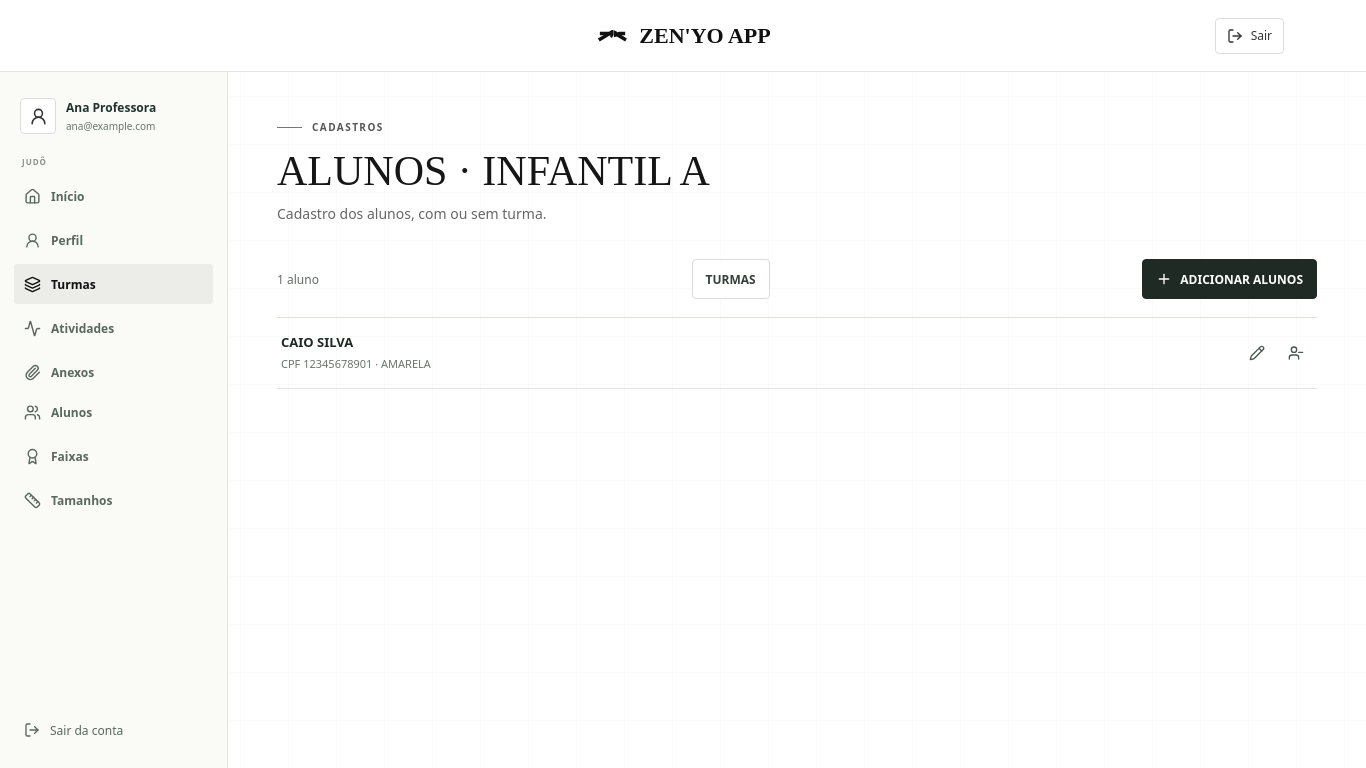
telas conectadas aos recursos FastAPI › abre os detalhes do aluno em um popup e fecha com Escape
Expected: the text "Caio Silva" is shown, [281, 333, 353, 351]
Click the button with aria-label "Ver detalhes de Caio Silva". click: (317,342)
box: [281, 333, 1226, 373]
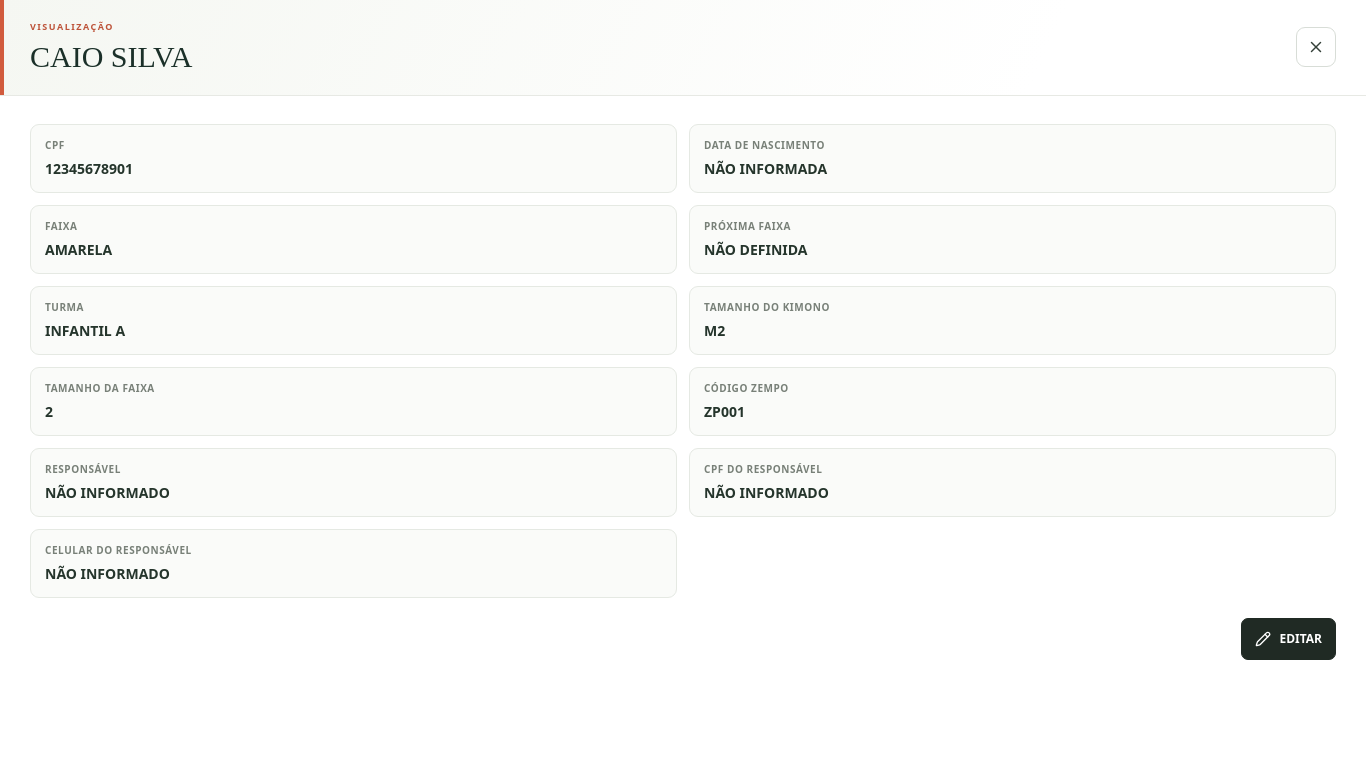
Result: the text "12345678901" is shown at [45, 158, 133, 178]
Press Escape
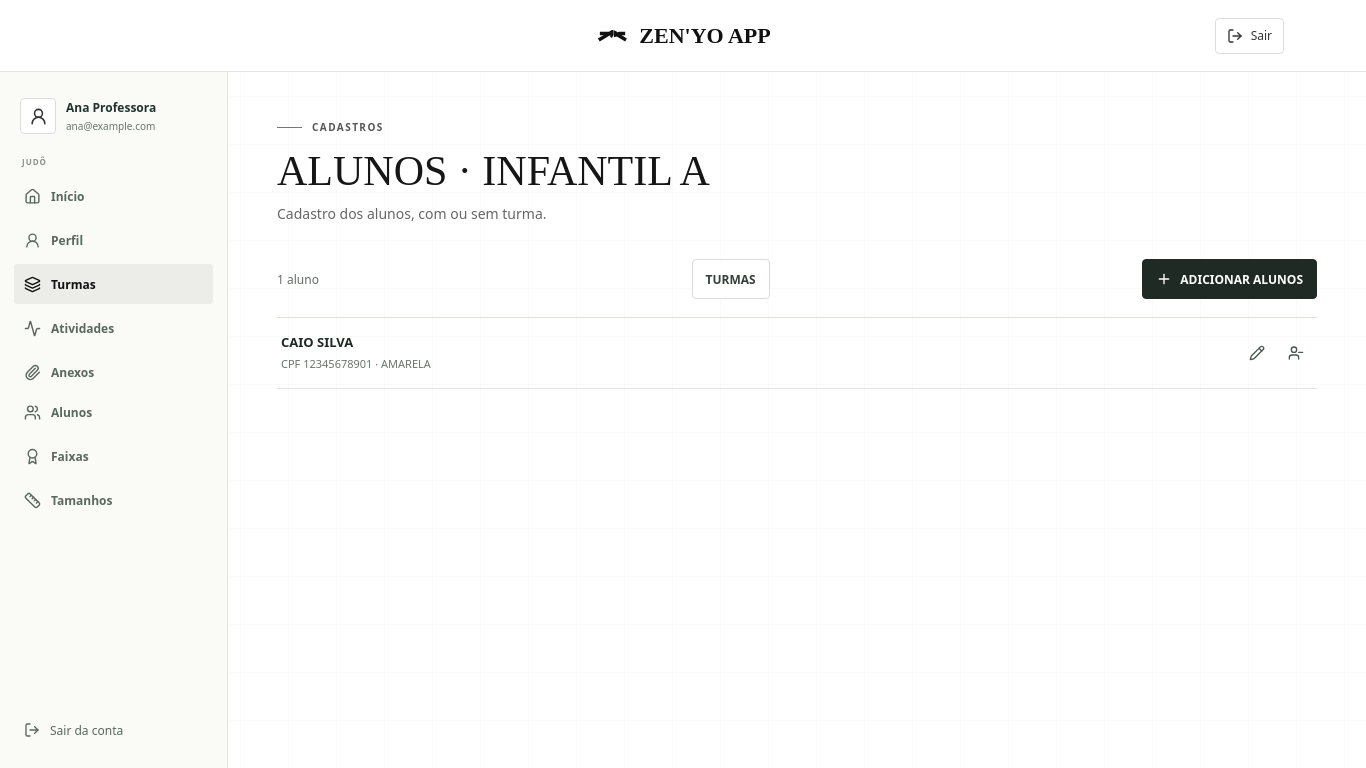
Result: the dialog is gone
Click the button with aria-label "Ver detalhes de Caio Silva". click: (317,342)
box: [281, 333, 1226, 373]
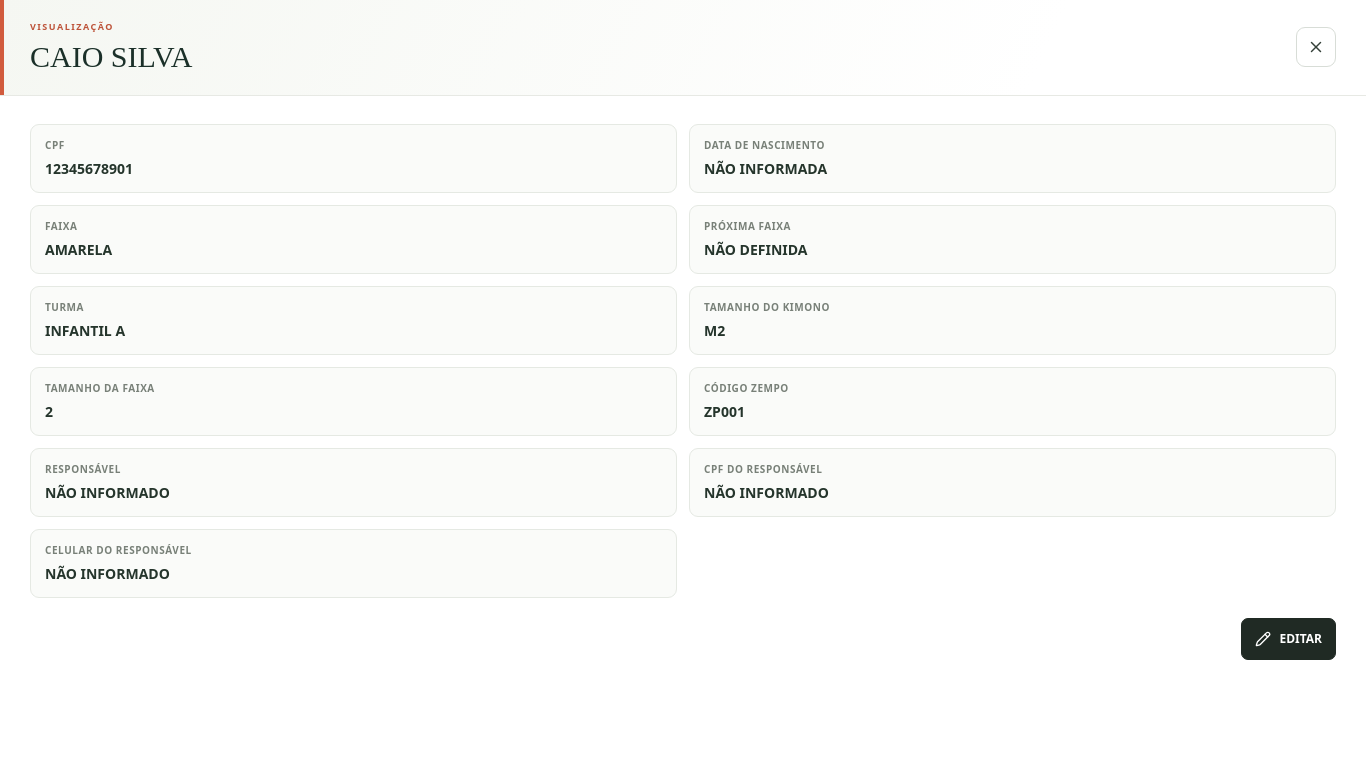
Result: the dialog "Caio Silva" is shown
Click the button named "Fechar detalhes". click: (1316,47)
box: [1296, 27, 1336, 67]
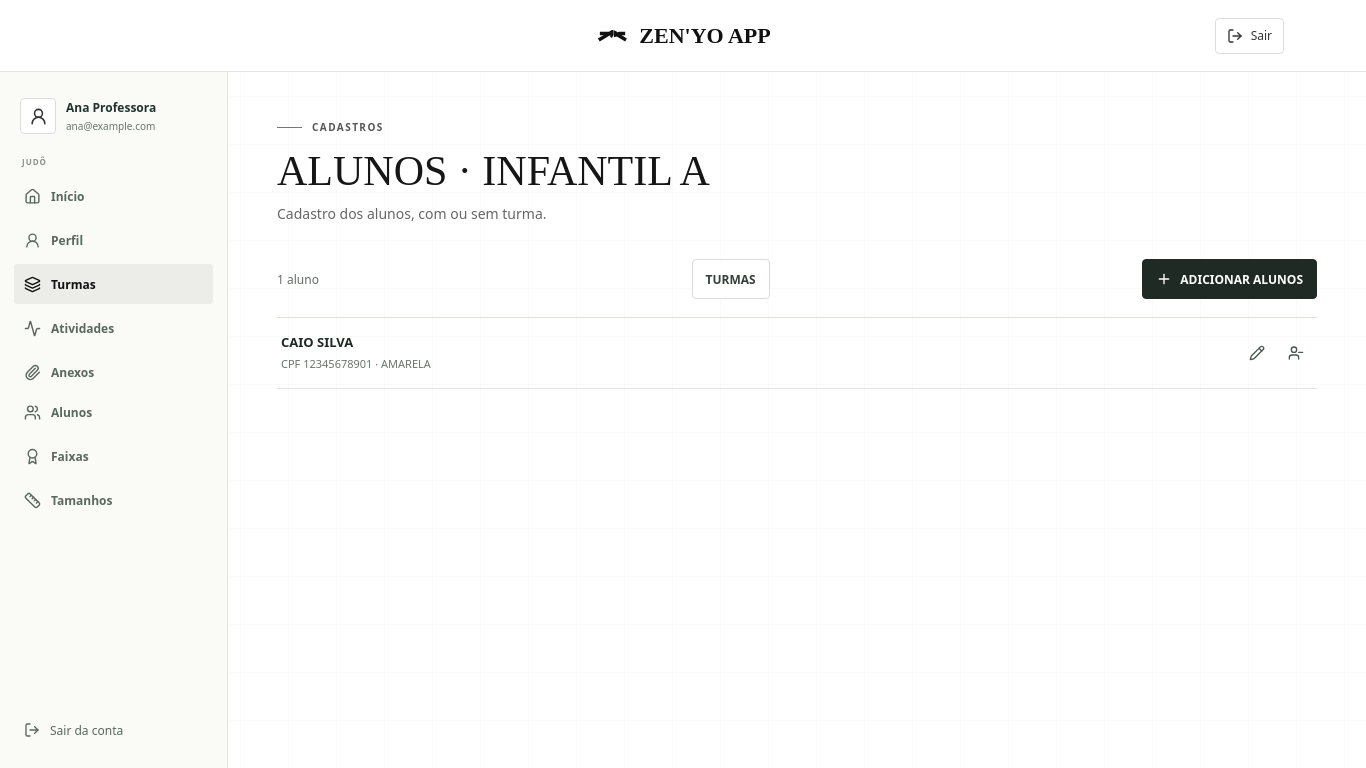
Result: the dialog is gone
